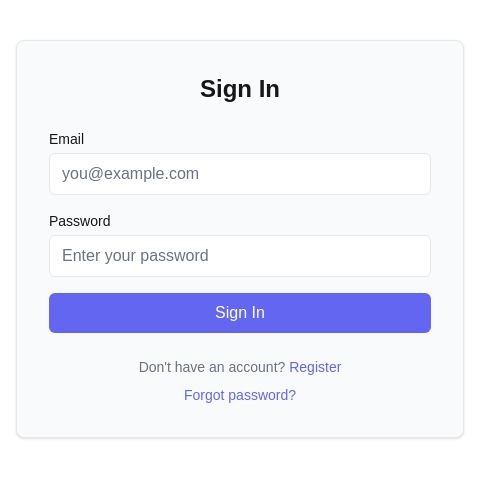
LoginPage › shows validation error for empty email
Click the button "Sign In" at x=240, y=313, box 49,293 -> 431,333
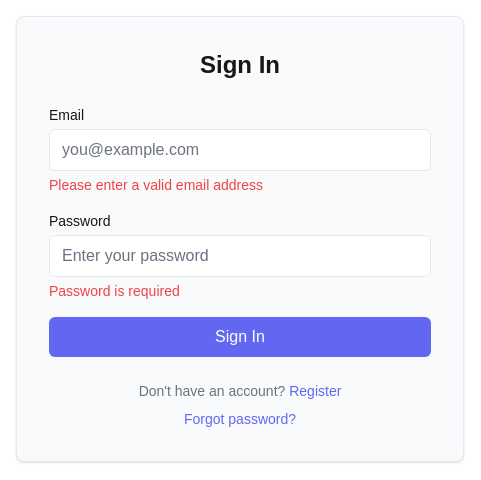
Check: the text "Please enter a valid email address" is shown, box 49,177 -> 263,193
